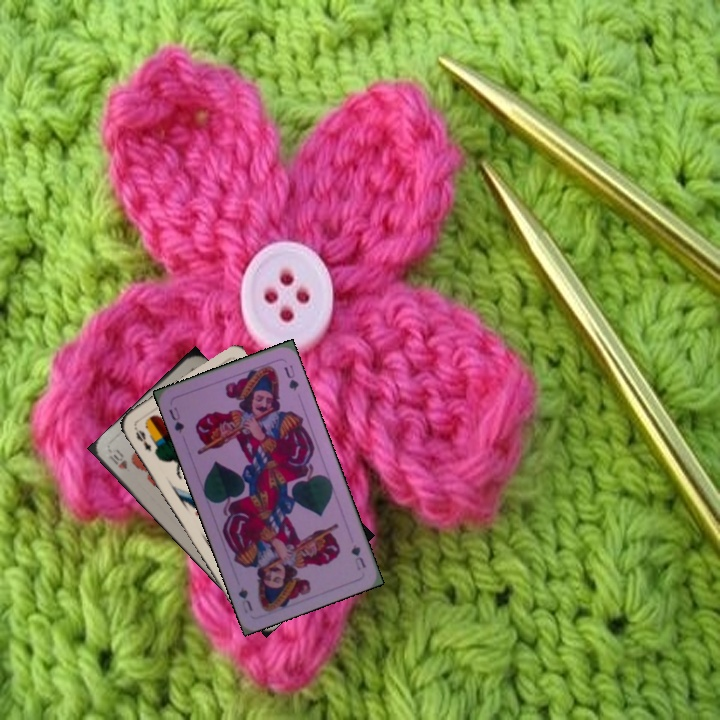EO: (131, 426, 154, 454)
GU: (165, 403, 187, 435), (347, 541, 368, 573)
H10: (105, 445, 130, 472)
